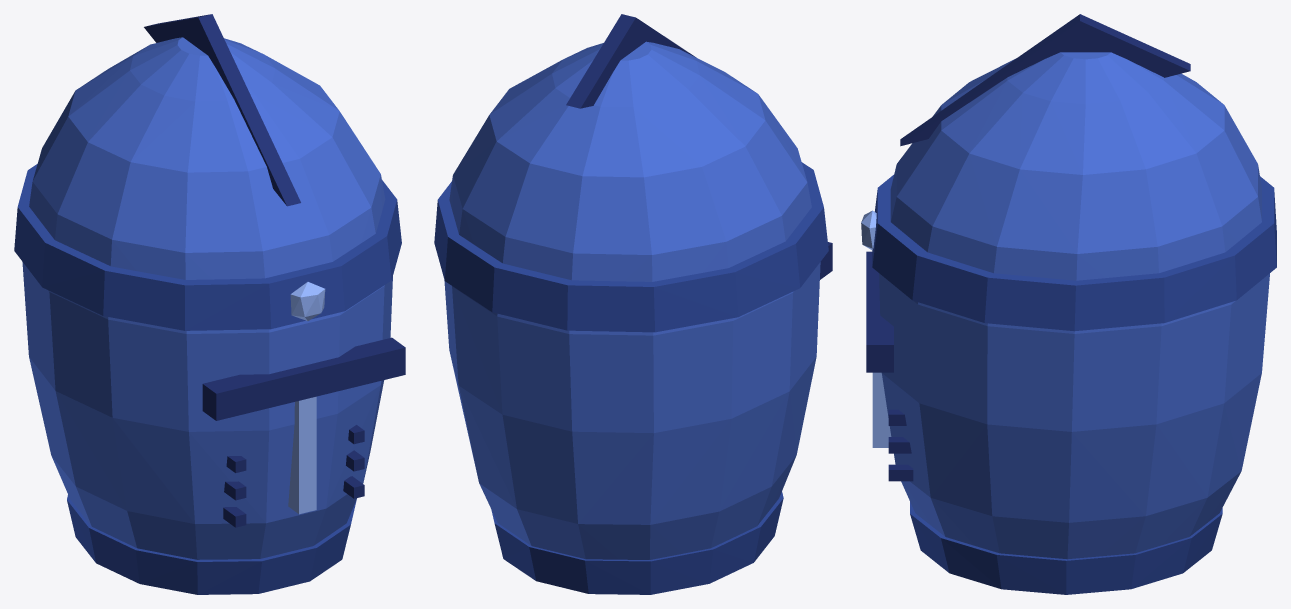
The model's file is gear_mithril_fullhelm.glb.
3 renders of one model, left to right at view 1: azimuth 30°, elevation 25°; view 2: azimuth 150°, elevation 25°; view 3: azimuth 270°, elevation 25°, orthographic.
Parts seen in each view (by area): view 1: gear_mithril_fullhelm; view 2: gear_mithril_fullhelm; view 3: gear_mithril_fullhelm.
Boxes of the visible parts, x1=… form: gear_mithril_fullhelm: x1=14, y1=14, x2=405, y2=594; gear_mithril_fullhelm: x1=434, y1=14, x2=832, y2=594; gear_mithril_fullhelm: x1=861, y1=14, x2=1276, y2=594.
Bounding box in the file's own units: 0.28 × 0.415 × 0.3006.
